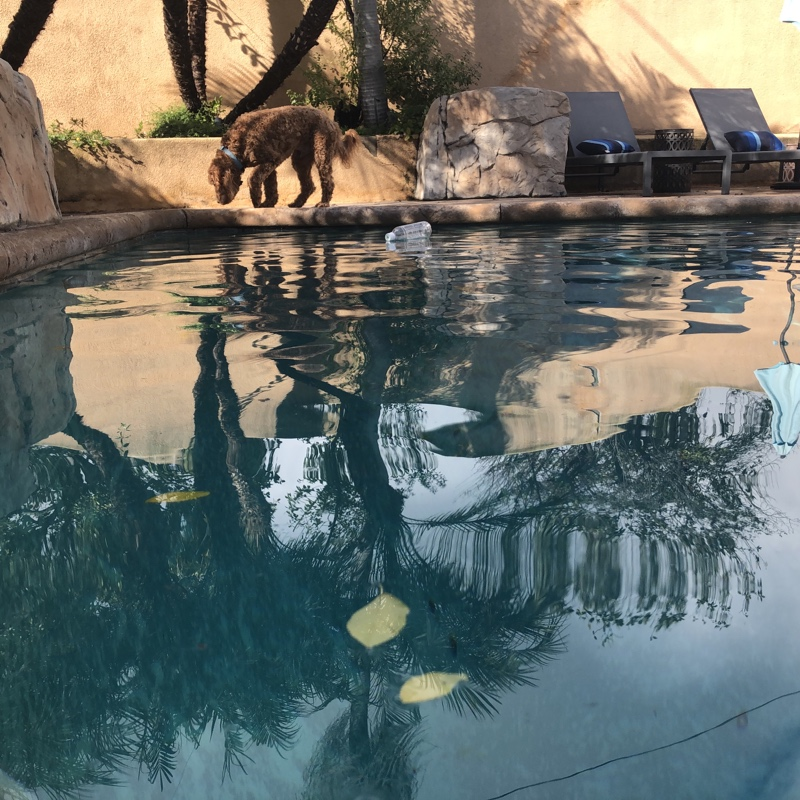Plastic Bottle: (383, 220, 434, 245)
